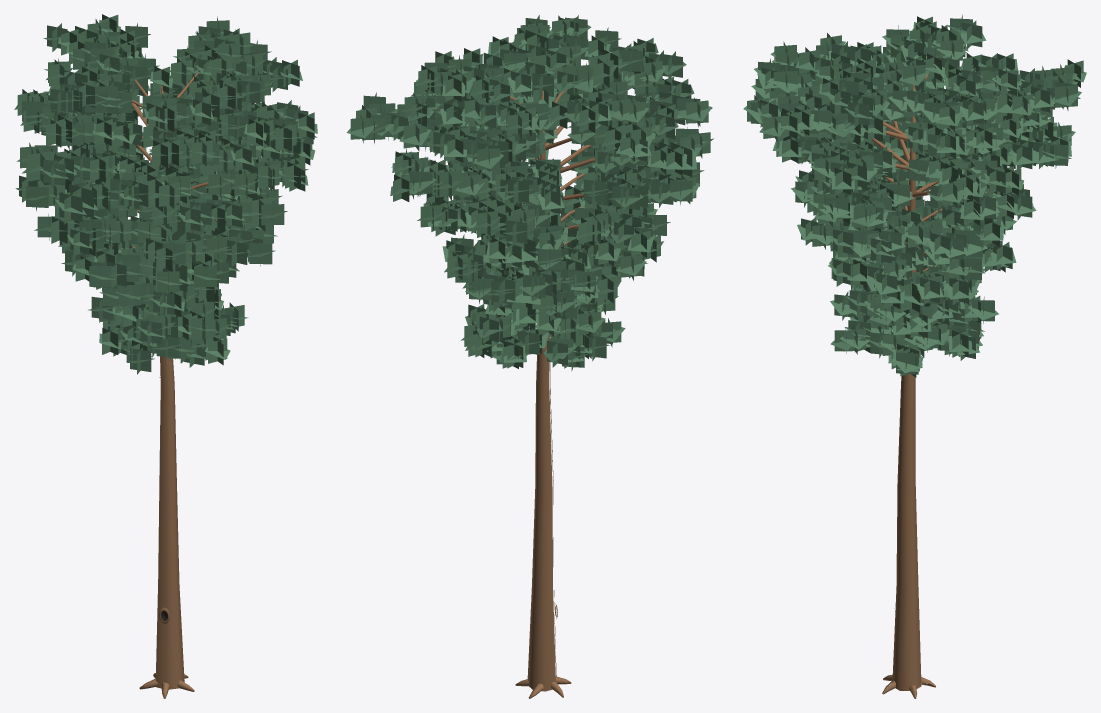
The model's file is pin_4_f3_jeu.glb.
3 renders of one model, left to right at view 1: azimuth 30°, elevation 25°; view 2: azimuth 150°, elevation 25°; view 3: azimuth 270°, elevation 25°, orthographic.
Parts seen in each view (by area): view 1: Pin_T4_f3_Leger; view 2: Pin_T4_f3_Leger; view 3: Pin_T4_f3_Leger.
Part boxes in pixels (left/top/right/bottom): Pin_T4_f3_Leger: left=14, top=14, right=317, bottom=698; Pin_T4_f3_Leger: left=346, top=15, right=713, bottom=698; Pin_T4_f3_Leger: left=743, top=14, right=1086, bottom=698.
Size of the model in its own units: 9.76 by 18.82 by 9.33.
